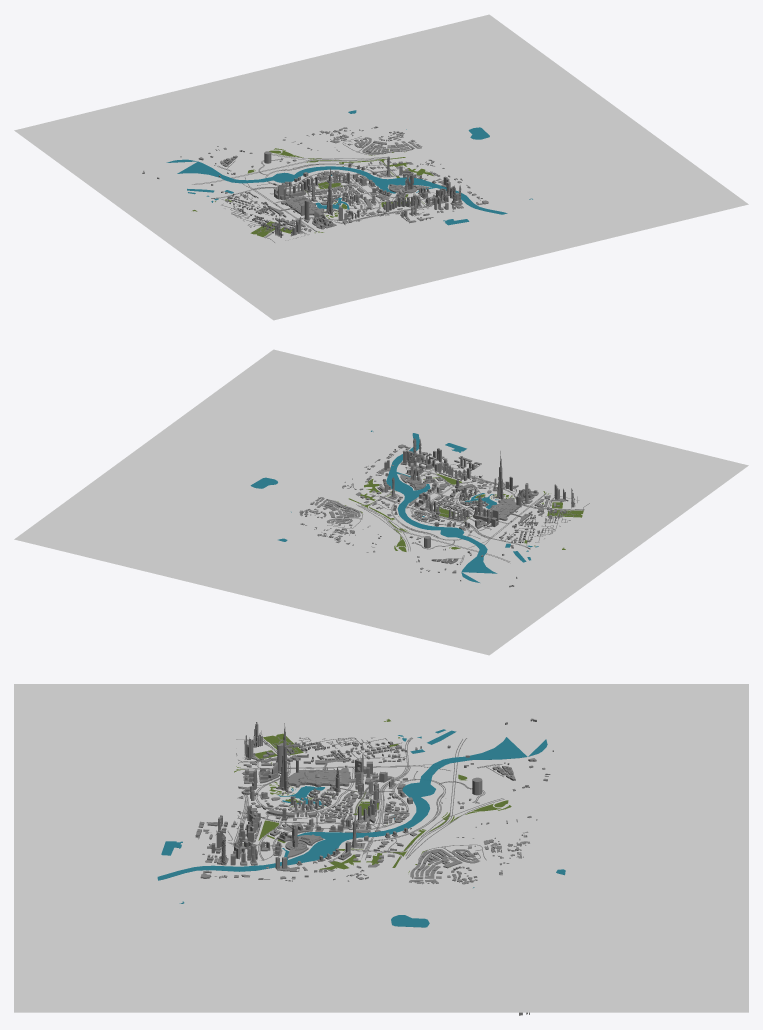
The model's file is map.glb.
The picture shows the model from 3 angles, top to bottom: view 1: azimuth 30°, elevation 25°; view 2: azimuth 150°, elevation 25°; view 3: azimuth 270°, elevation 25°; orthographic projection. The views are drawn at different scales.
Visible parts, largest first — view 1: land, build, road, water, tree; view 2: land, build, road, water, tree; view 3: land, build, water, road, tree.
Boxes of the visible parts, bbox=[...] form: land: bbox=[14, 14, 748, 320]; build: bbox=[142, 126, 488, 237]; road: bbox=[192, 136, 435, 242]; water: bbox=[166, 110, 532, 225]; tree: bbox=[192, 148, 433, 236]; land: bbox=[14, 349, 748, 655]; build: bbox=[299, 438, 577, 587]; road: bbox=[327, 464, 589, 563]; water: bbox=[250, 430, 538, 582]; tree: bbox=[329, 469, 583, 551]; land: bbox=[14, 684, 748, 1012]; build: bbox=[195, 718, 553, 1015]; water: bbox=[157, 729, 565, 927]; road: bbox=[215, 737, 504, 860]; tree: bbox=[234, 719, 511, 872].
Size of the model in its own units: 9983 by 1192 by 9440.
Materials: 6 (1 with a texture image).
